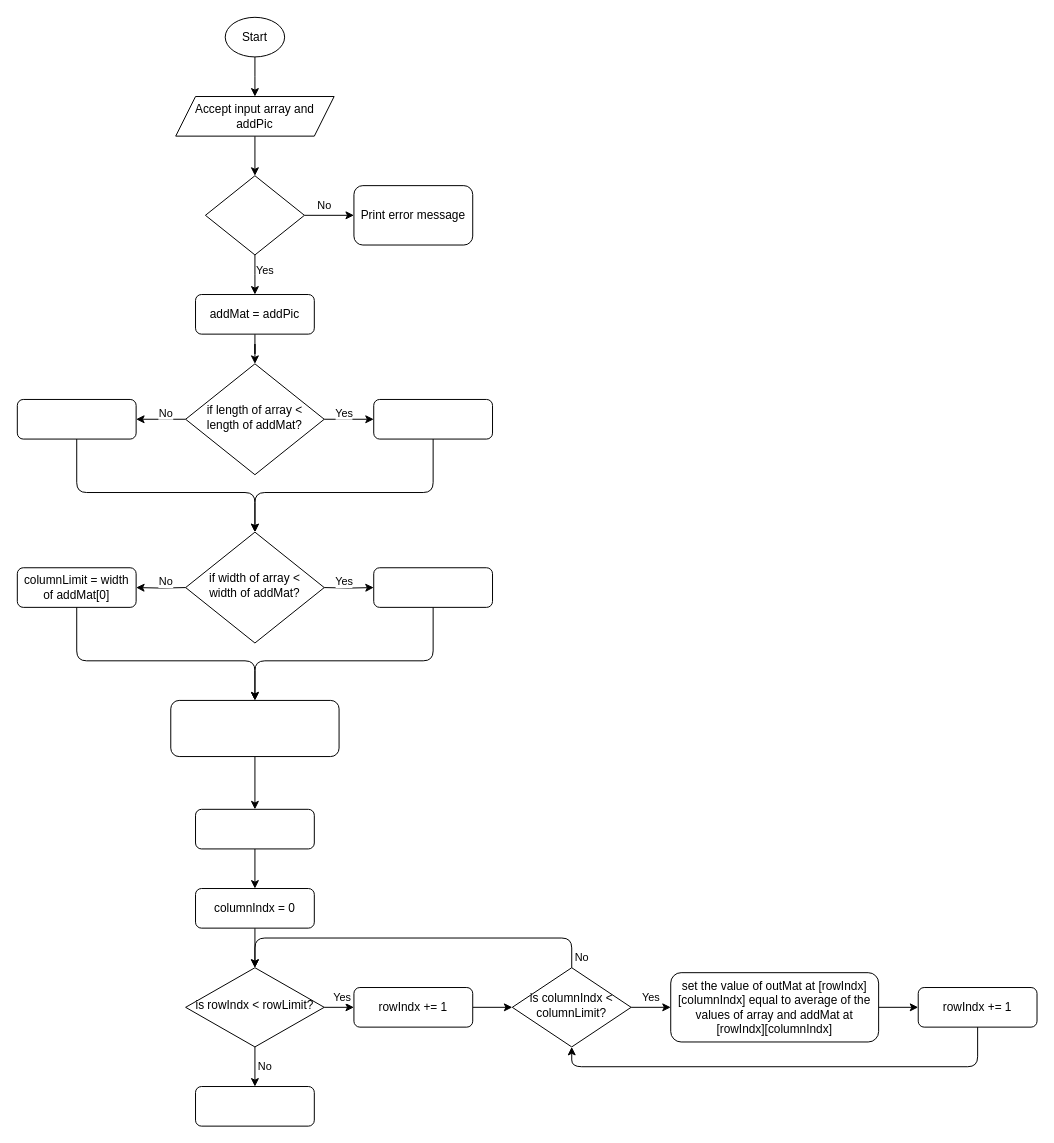
This 1054x1143 diagram has some shape labels left out. Each missing label, with the box of its shape:
columnLimit = width of array[0]: (373, 567, 493, 607)
Define varaible "outMat" and set equal to an empty array of dimensions: (170, 699, 339, 757)
Is addPic an array?: (204, 175, 304, 255)
return outMat: (195, 1086, 314, 1126)
rowIndx = 0: (195, 808, 314, 849)
rowLimit = length of addMat: (16, 398, 136, 439)
rowLimit = length of array: (373, 398, 493, 439)
